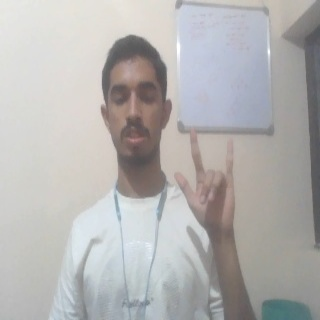Face: (98, 33, 174, 171)
I Love You: (172, 126, 239, 239)
